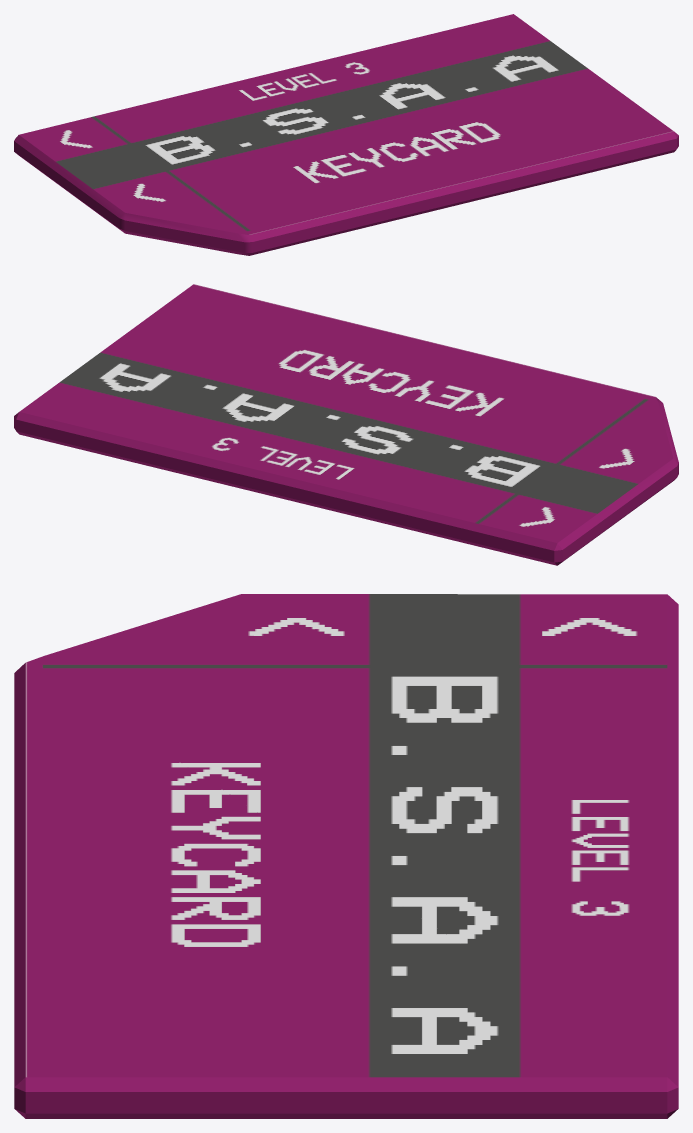
File: KEYCARD_LEVEL_3_PINK.fbx
The picture shows the model from 3 angles, top to bottom: view 1: azimuth 30°, elevation 25°; view 2: azimuth 150°, elevation 25°; view 3: azimuth 270°, elevation 25°; orthographic projection. The views are drawn at different scales.
Visible parts, largest first — view 1: pCube2; view 2: pCube2; view 3: pCube2.
Part boxes in pixels (x1=…): pCube2: x1=14, y1=14, x2=678, y2=255; pCube2: x1=14, y1=284, x2=678, y2=565; pCube2: x1=14, y1=594, x2=678, y2=1118.
Bounding box in the file's own units: 0.4214 × 0.0166 × 0.2402.
Materials: 1 (1 with a texture image).
